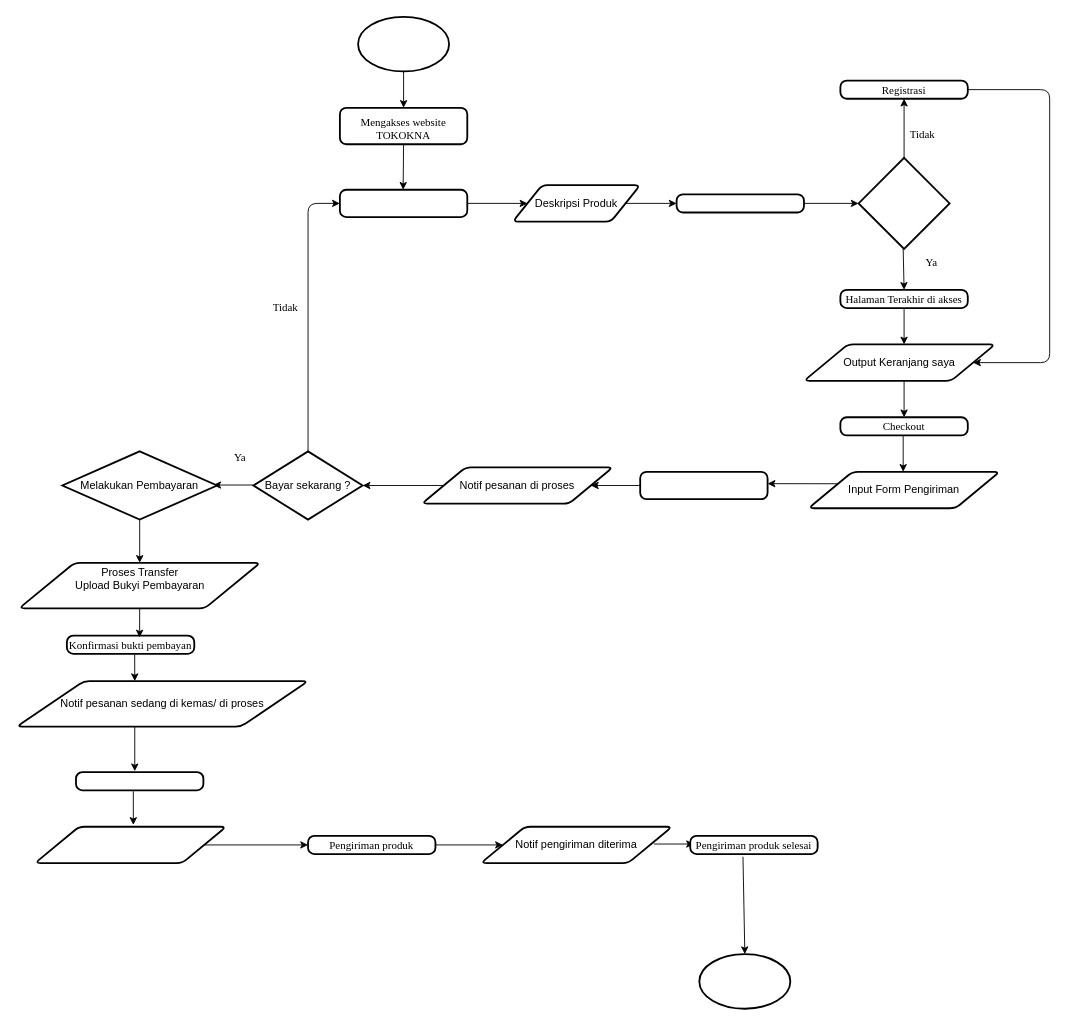
The diagram is 1073 pixels wide and 1025 high, and some of its shapes have lost their labels. The centre of each missing label's shape, as x and y in pixels:
"Barang dikemas" goes at point 139,781.
"Buat pesanan / Proses Checkout" goes at point 703,485.
"Finish" goes at point 744,981.
"Login ?" goes at point 903,203.
"Masuk ke Keranjang" goes at point 739,203.
"Memilih Produk" goes at point 403,202.
"Notif pesanan di kirim" goes at point 130,844.
"Start" goes at point 403,43.
